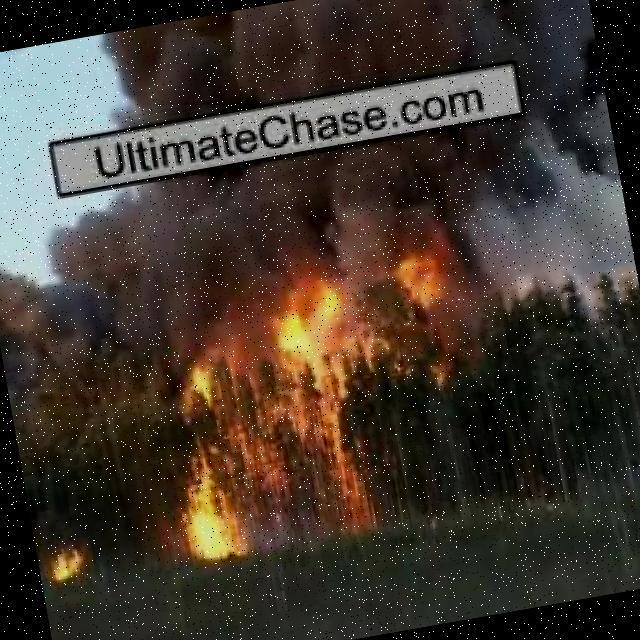Fire: (147, 276, 383, 563), (393, 244, 451, 338), (48, 548, 85, 581)
